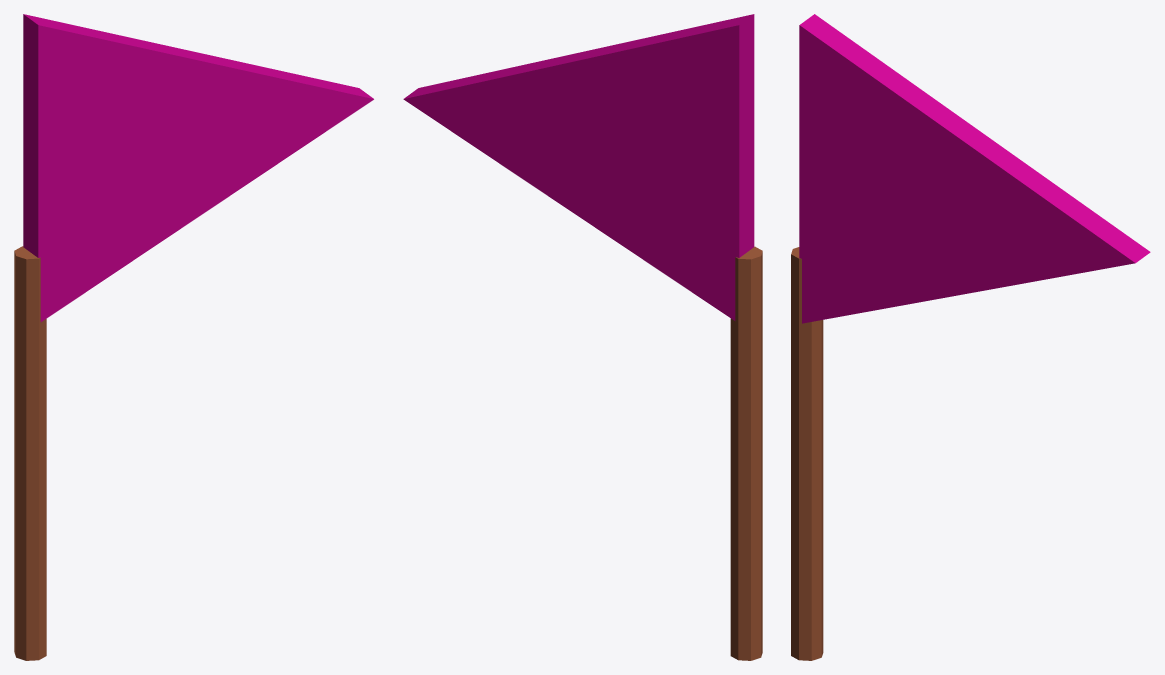
File: PurpleFlag.fbx
3 renders of one model, left to right at view 1: azimuth 30°, elevation 25°; view 2: azimuth 150°, elevation 25°; view 3: azimuth 330°, elevation 25°, orthographic.
Visible parts, largest first — view 1: PurpleFlag; view 2: PurpleFlag; view 3: PurpleFlag.
Boxes of the visible parts, x1,y1,x2,y2 form: PurpleFlag: (14, 14, 373, 660); PurpleFlag: (403, 14, 762, 660); PurpleFlag: (791, 14, 1150, 660).
Bounding box in the file's own units: 109 × 188 × 8.96.
Materials: 1 (1 with a texture image).
